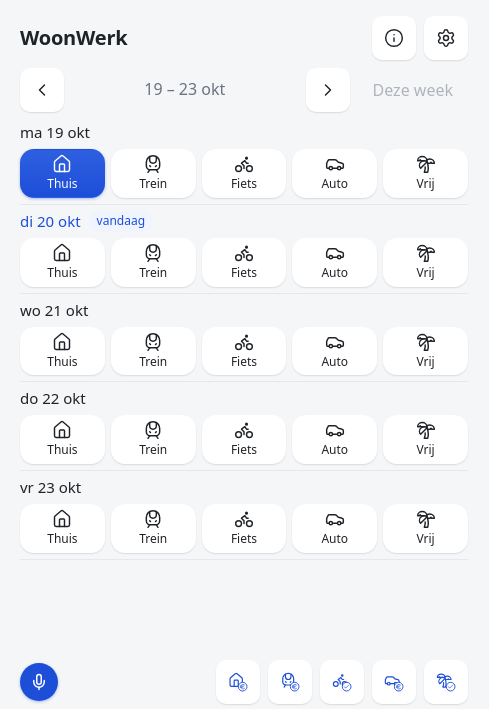
Scenario: AC15: backup maken › downloadt de backup als er geen map is gekozen
Click the button named "Instellingen en backup": (446, 38) [424, 16, 468, 60]
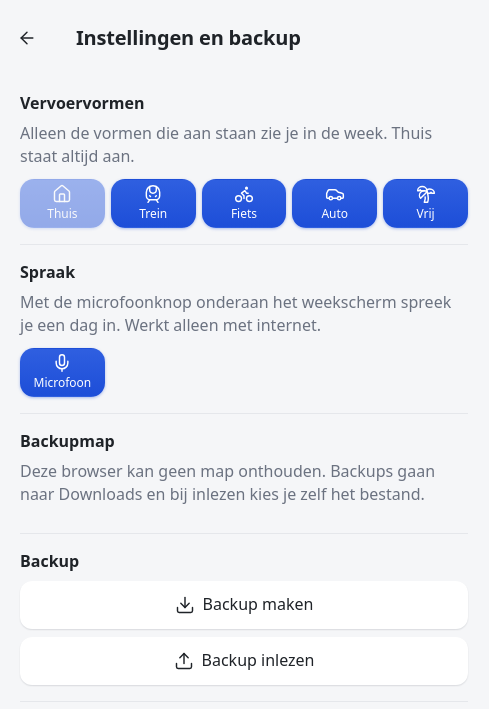
Click the button "Backup maken": (244, 604) [20, 580, 468, 628]
(page scrolled)
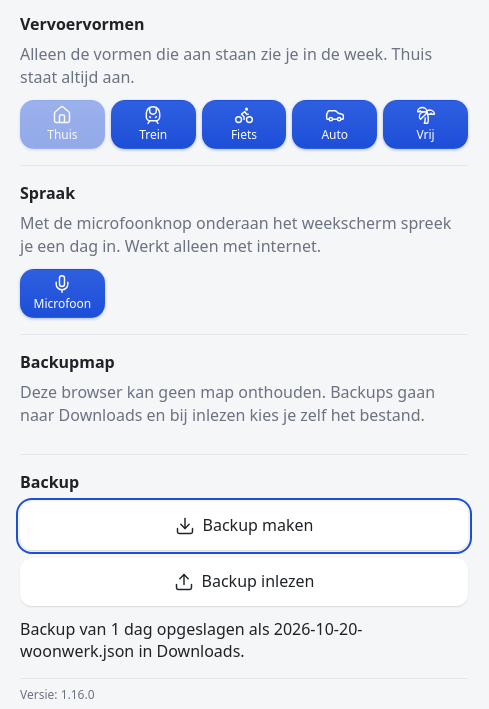
Expected: the message shows "in Downloads", [20, 618, 362, 662]
